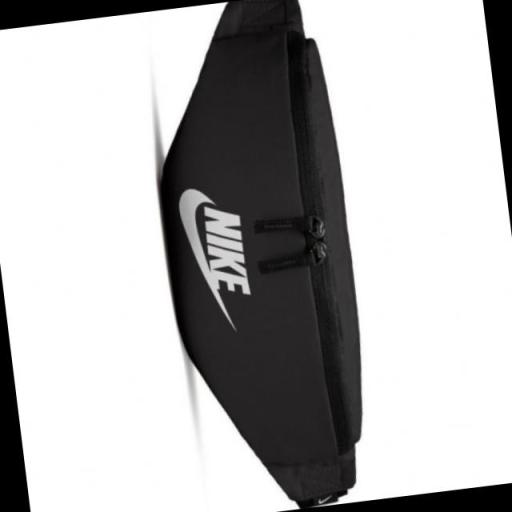Nike: (198, 200, 252, 303), (176, 186, 221, 306)
